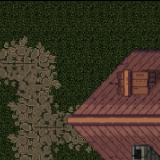Obstacle: (132, 0, 160, 160)
